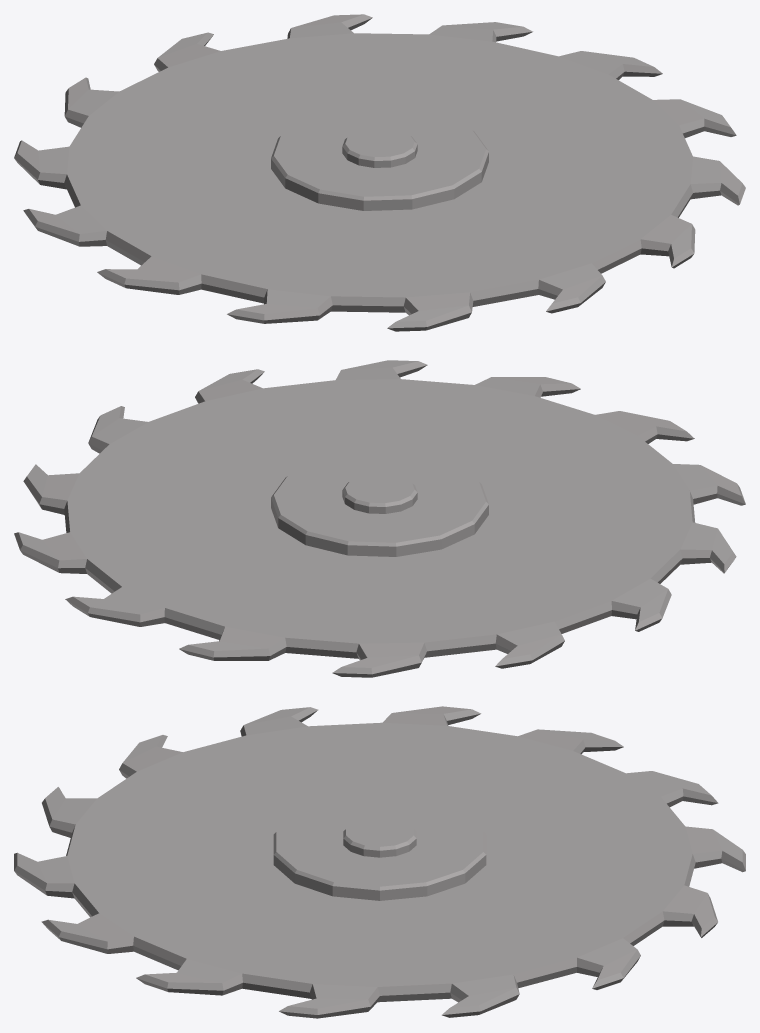
The model's file is SawBlade.fbx.
The picture shows the model from 3 angles, top to bottom: view 1: azimuth 30°, elevation 25°; view 2: azimuth 150°, elevation 25°; view 3: azimuth 270°, elevation 25°; orthographic projection.
Parts seen in each view (by area): view 1: SawBlade; view 2: SawBlade; view 3: SawBlade.
Boxes of the visible parts, left/top/right/bottom form: SawBlade: left=14, top=14, right=745, bottom=331; SawBlade: left=14, top=360, right=745, bottom=677; SawBlade: left=14, top=706, right=745, bottom=1018.
Size of the model in its own units: 50.66 by 4.68 by 51.31.
